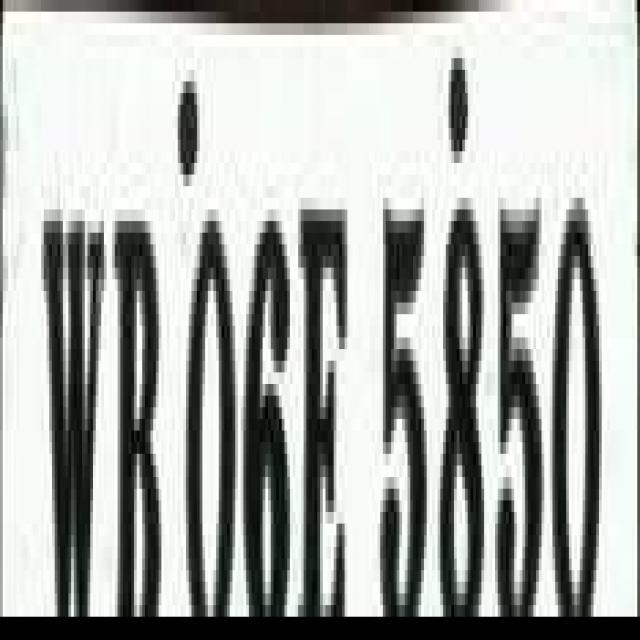license_plate: (2, 11, 604, 640)
